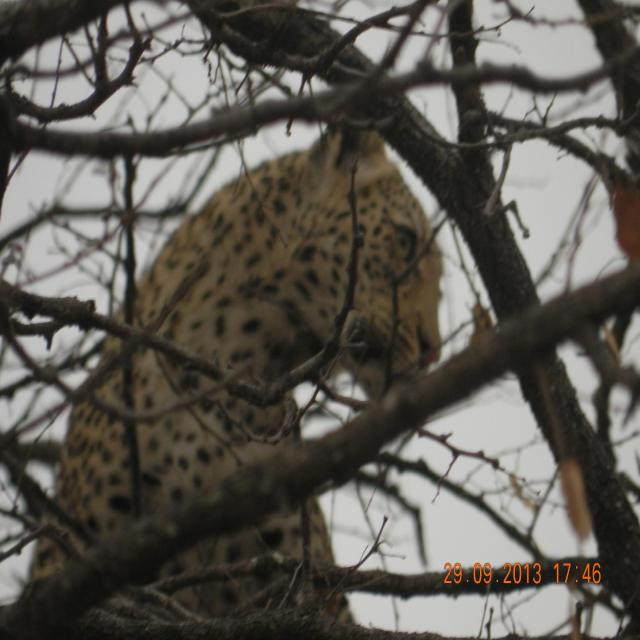Leopard: (15, 103, 456, 640)
